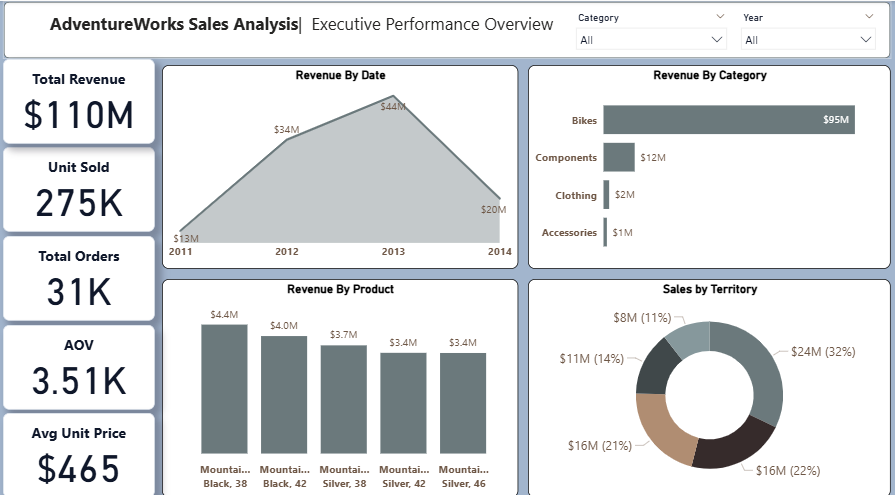

What the dashboard file says about the page in this screenshot:
{"tool":"powerbi","page":{"name":"Page 1","canvas":[1280,720],"ordinal":0},"visuals":[{"type":"shape","box":[9.9,0,1258.6,82.2],"z":0},{"type":"textbox","box":[35.4,9.9,795.1,49.6],"z":1000},{"type":"slicer","fields":{"Values":["Fact_Sales.CategoryName"]},"box":[812.1,9.9,233.9,65.2],"z":2000},{"type":"slicer","fields":{"Values":["Fact_Sales.OrderDate.Variation.Date Hierarchy.Year"]},"box":[1046,9.9,211.2,65.2],"z":3000},{"type":"cardVisual","fields":{"Data":["Key Measures.Unit Sold"]},"box":[9.9,207.5,215.4,120.5],"z":4000},{"type":"cardVisual","fields":{"Data":["Key Measures.Total Revenue"]},"box":[9.9,82.2,215.4,120],"z":5000},{"type":"cardVisual","fields":{"Data":["Key Measures.Total Orders"]},"box":[9.9,333.3,215.4,120],"z":6000},{"type":"areaChart","title":"Revenue By Date","fields":{"Category":["Fact_Sales.OrderDate.Variation.Date Hierarchy.Year","Fact_Sales.OrderDate.Variation.Date Hierarchy.Quarter","Fact_Sales.OrderDate.Variation.Date Hierarchy.Month","Fact_Sales.OrderDate.Variation.Date Hierarchy.Day"],"Y":["Key Measures.Total Revenue"]},"box":[235.3,90.7,504.6,289.1],"z":7000},{"type":"clusteredBarChart","title":"Revenue By Category","fields":{"Category":["Fact_Sales.CategoryName"],"Y":["Key Measures.Total Revenue"]},"box":[754,90.7,514.5,289.1],"z":8000},{"type":"clusteredColumnChart","title":"Revenue By Product","fields":{"Y":["Key Measures.Total Revenue"],"Category":["Fact_Sales.Productname"]},"box":[235.3,394,504.6,310.4],"z":9000},{"type":"cardVisual","fields":{"Data":["Key Measures.Average Order Value"]},"box":[9.9,458.6,215.4,120],"z":10000},{"type":"donutChart","title":"Sales by Territory","fields":{"Y":["Key Measures.Total Revenue"],"Category":["Fact_Sales.TerritoryID"]},"box":[754,394,514.5,310.4],"z":11000},{"type":"cardVisual","fields":{"Data":["Key Measures.Avg Unit Price"]},"box":[9.9,583.9,215.4,120.5],"z":12000}]}

Visuals, with their boxes in screenshot pixels (x1, y1, x2, y2), scaled from the page's 1280x720 canvas onto the 895x495 screenshot:
shape: {"x1": 7, "y1": 0, "x2": 887, "y2": 57}
textbox: {"x1": 25, "y1": 7, "x2": 581, "y2": 41}
slicer - Fact_Sales.CategoryName: {"x1": 568, "y1": 7, "x2": 731, "y2": 52}
slicer - Fact_Sales.OrderDate.Variation.Date Hierarchy.Year: {"x1": 731, "y1": 7, "x2": 879, "y2": 52}
cardVisual - Key Measures.Unit Sold: {"x1": 7, "y1": 143, "x2": 158, "y2": 226}
cardVisual - Key Measures.Total Revenue: {"x1": 7, "y1": 57, "x2": 158, "y2": 139}
cardVisual - Key Measures.Total Orders: {"x1": 7, "y1": 229, "x2": 158, "y2": 312}
"Revenue By Date" areaChart: {"x1": 165, "y1": 62, "x2": 517, "y2": 261}
"Revenue By Category" clusteredBarChart: {"x1": 527, "y1": 62, "x2": 887, "y2": 261}
"Revenue By Product" clusteredColumnChart: {"x1": 165, "y1": 271, "x2": 517, "y2": 484}
cardVisual - Key Measures.Average Order Value: {"x1": 7, "y1": 315, "x2": 158, "y2": 398}
"Sales by Territory" donutChart: {"x1": 527, "y1": 271, "x2": 887, "y2": 484}
cardVisual - Key Measures.Avg Unit Price: {"x1": 7, "y1": 401, "x2": 158, "y2": 484}
